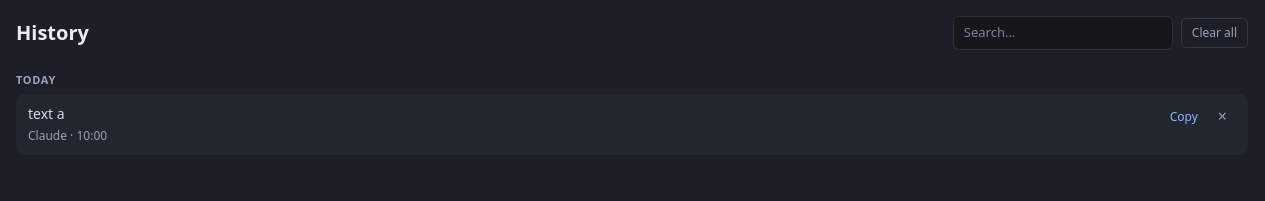
Test: HistoryPage › shows an inline error when a delete fails
Expected: the text "text a" is shown, [28,104,65,123]
Step 1. Click the button named "Delete" → (1222, 116), box [1209,104,1236,129]
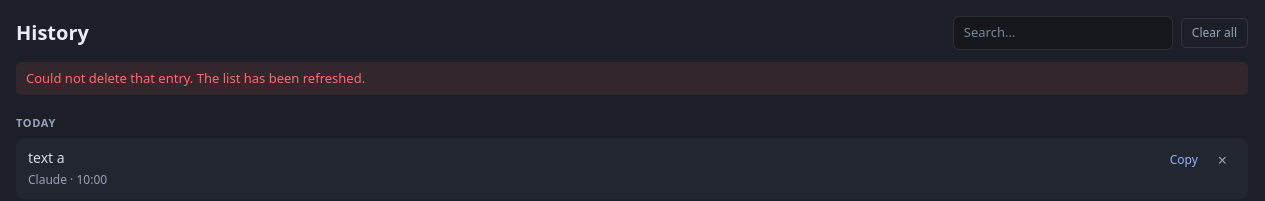
Expected: the text "text a" is shown, [28,148,65,166]
Expected: the message shows "Could not delete", [26,68,365,86]
